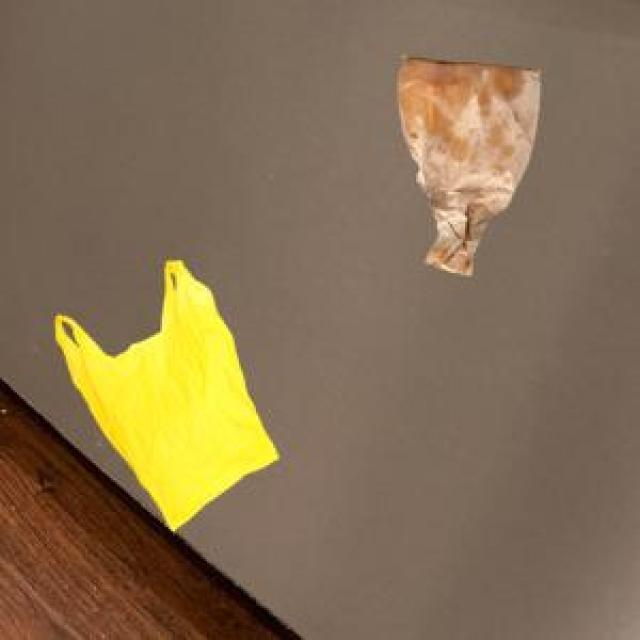paper: (395, 51, 536, 271)
